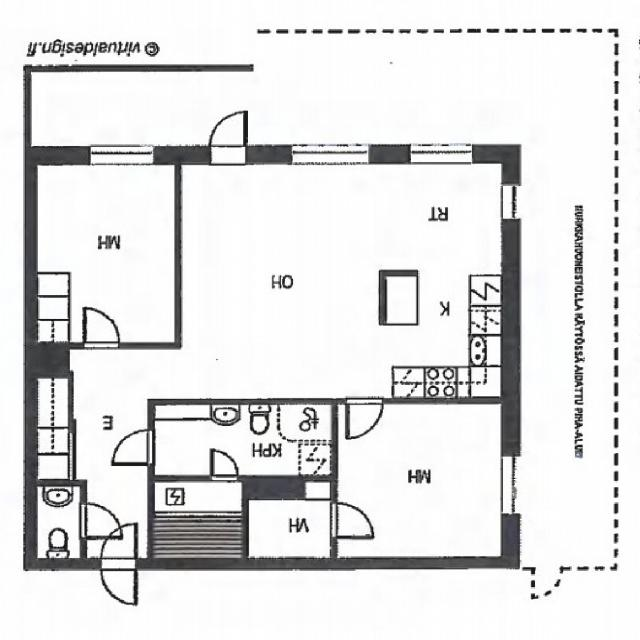door: (210, 110, 246, 164), (101, 522, 136, 570), (101, 556, 136, 604), (331, 503, 376, 539), (80, 503, 125, 539), (110, 430, 154, 466), (345, 396, 382, 438), (84, 309, 119, 350), (210, 449, 238, 481)
